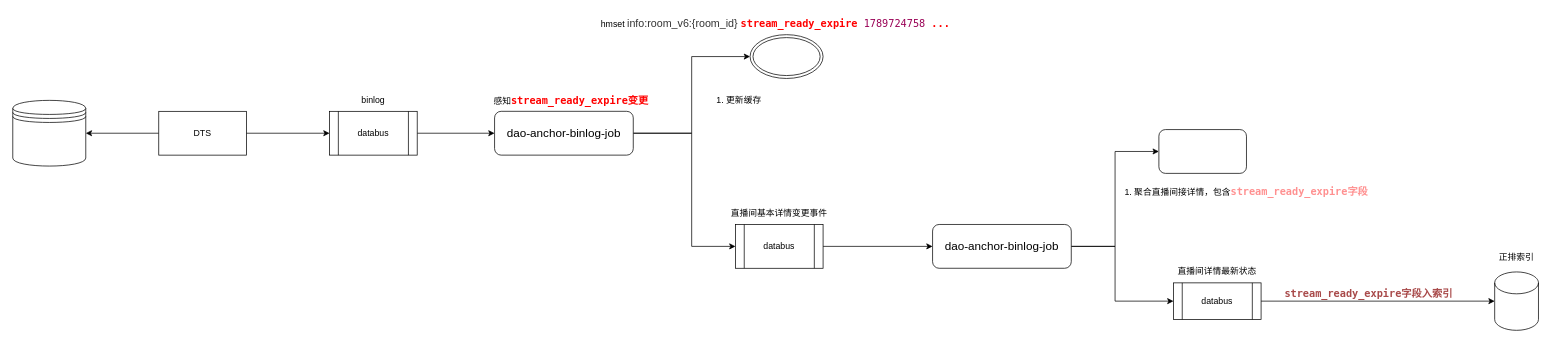
Some shapes in this 1551 by 343 pixel diagram are drawn without their labels. Each missing label, with the centre of its shape:
"redis" belongs at point (786, 56).
"xanchor" belongs at point (49, 133).
"xroom" belongs at point (1202, 151).
